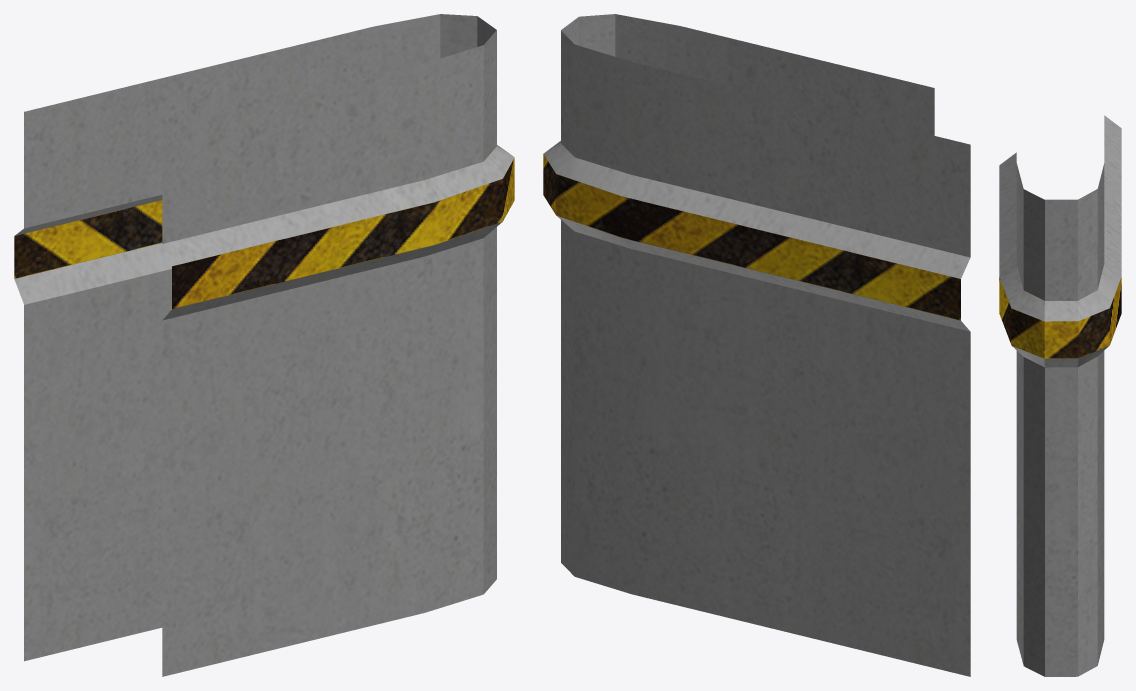
Rendered from Wall_05m_Roll180_02.FBX.
3 views of the same model, side by side, from view 1: azimuth 30°, elevation 25°; view 2: azimuth 150°, elevation 25°; view 3: azimuth 270°, elevation 25° (orthographic). The views are drawn at different scales.
Parts seen in each view (by area): view 1: Wall_05m_Roll180_02_mesh; view 2: Wall_05m_Roll180_02_mesh; view 3: Wall_05m_Roll180_02_mesh.
Part boxes in pixels (x1,y1,x2,y2): Wall_05m_Roll180_02_mesh: [14, 14, 514, 676]; Wall_05m_Roll180_02_mesh: [543, 14, 970, 676]; Wall_05m_Roll180_02_mesh: [999, 115, 1121, 676].
Size of the model in its own units: 261 by 300 by 69.63.
2 materials, 2 textured.
